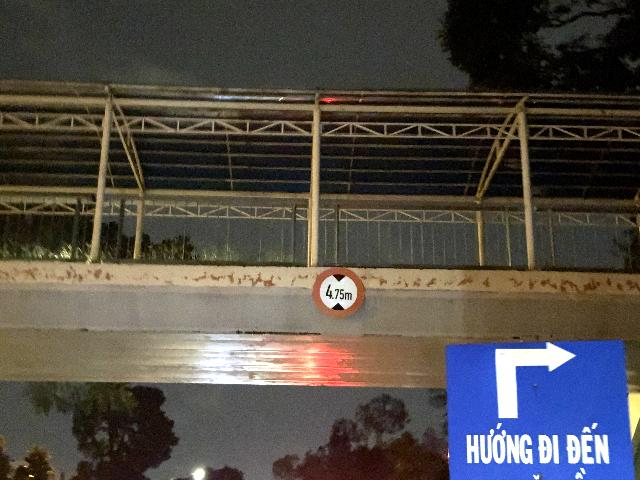han-che-chieu-cao: (312, 266, 365, 319)
